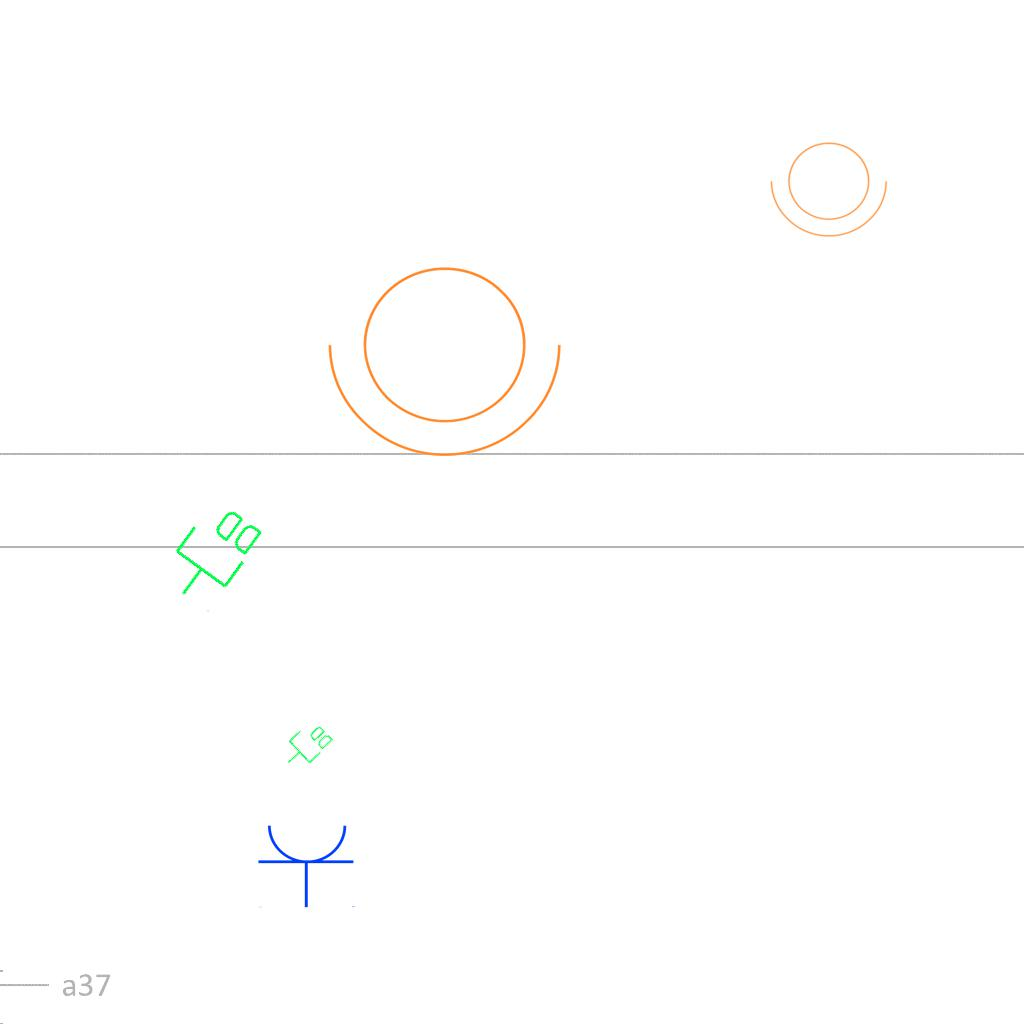Datenanschluss_zweifach: (154, 492, 271, 617), (276, 716, 337, 776)
Scheinwerfer_fuer_Alarmbeleuchtung: (319, 242, 583, 467), (766, 130, 898, 242)
Schukosteckdose_einfach: (257, 821, 357, 908)
